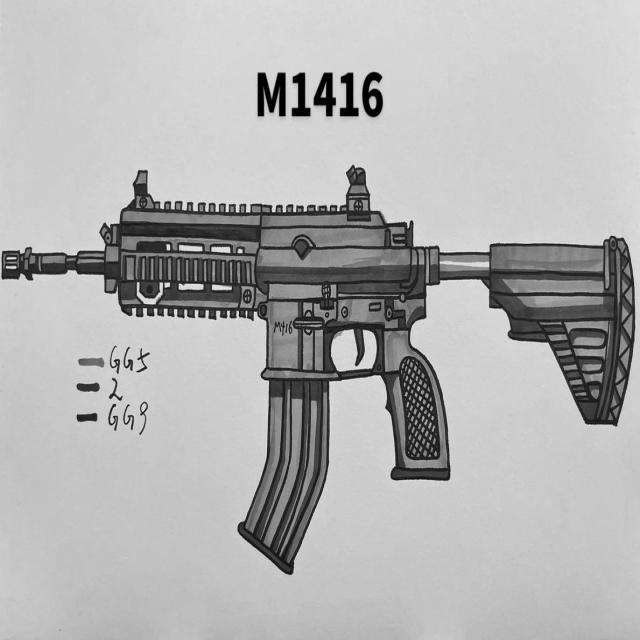gun: (1, 162, 635, 574)
